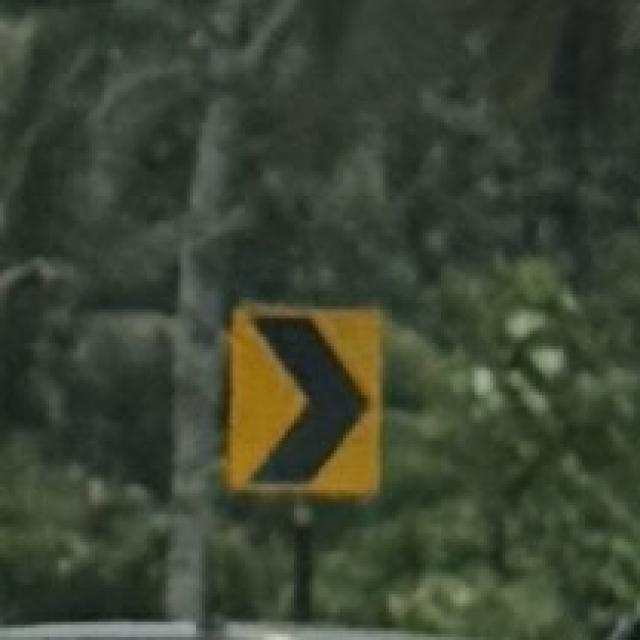TURN_RIGHT: (224, 297, 386, 508)
